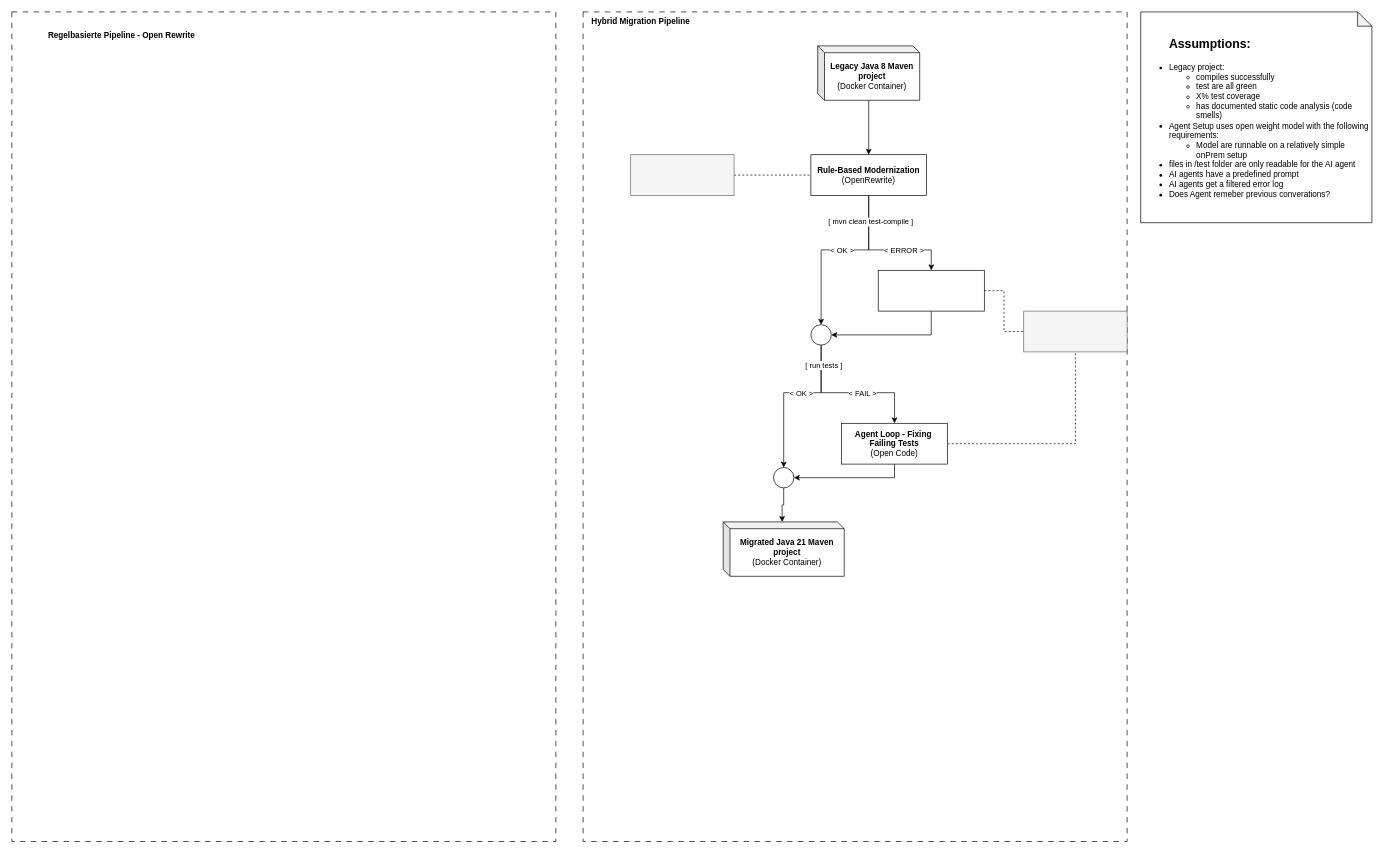
Image size: 1384x853. Some labels were removed from this diagram. Each missing label, with the box of its shape:
Agent Loop - Fixing Compiler Errors (OpenCode): (878, 270, 984, 311)
Collect Agent Metrics (Langfuse): (1023, 310, 1127, 352)
Collect Workflow Metrics (?): (630, 154, 734, 196)
